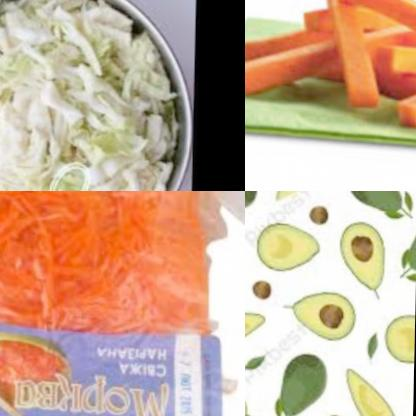avocado: (250, 203, 330, 285), (284, 273, 358, 340), (267, 341, 332, 416), (335, 206, 387, 288), (335, 360, 402, 416), (381, 299, 416, 378), (391, 196, 416, 285), (346, 191, 411, 216), (245, 294, 269, 356), (276, 191, 333, 210)
cabbage: (0, 0, 177, 191)
carrot: (0, 191, 213, 342), (245, 0, 416, 141)
